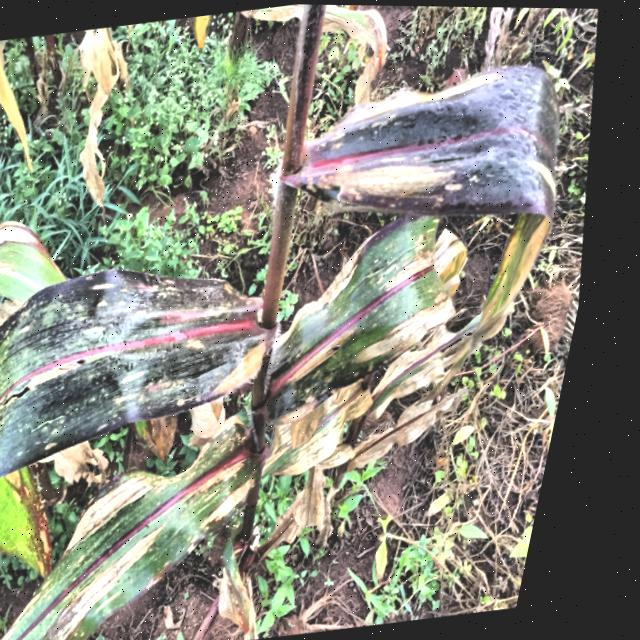blight: (82, 434, 268, 578)
